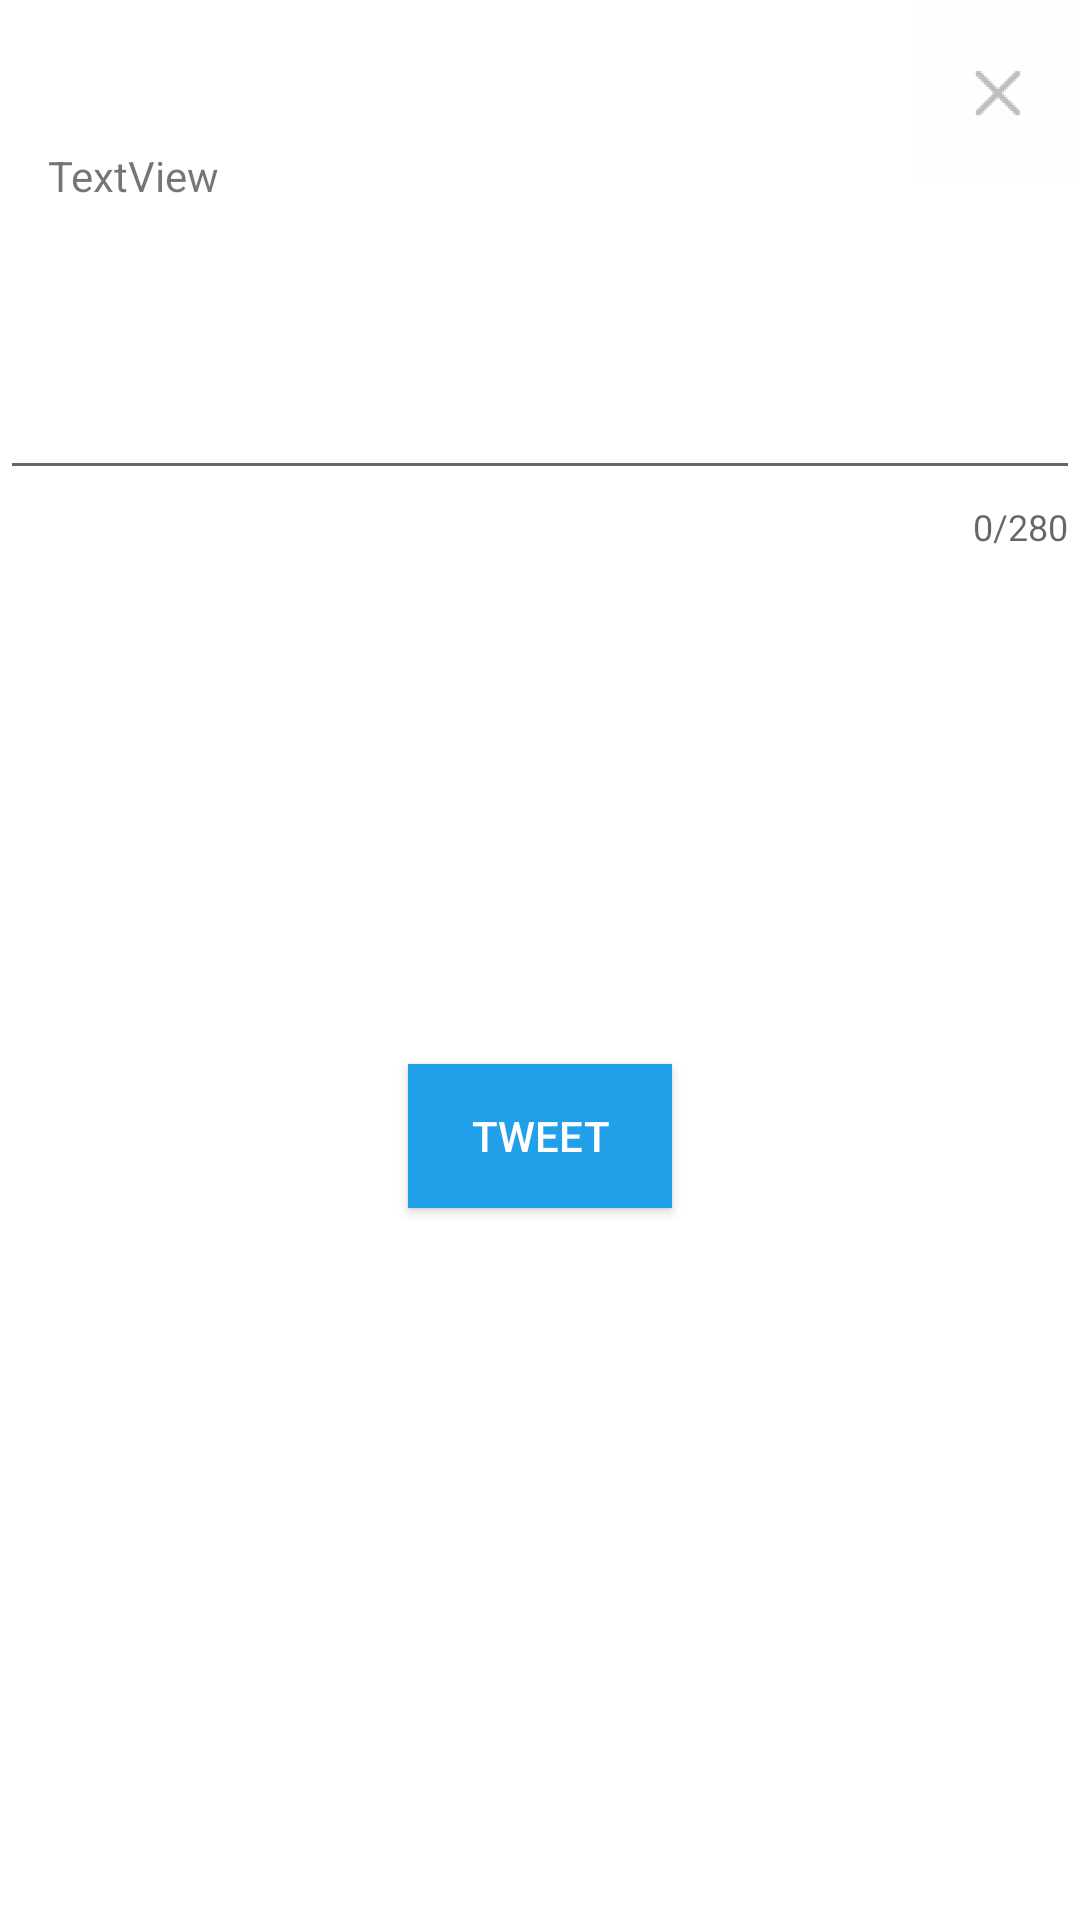

Icon bounding boxes for this 1080 × 1920 phone screenshot, format bbox=[x1, y1, x2, y2]:
close: bbox=[976, 71, 1020, 115]
